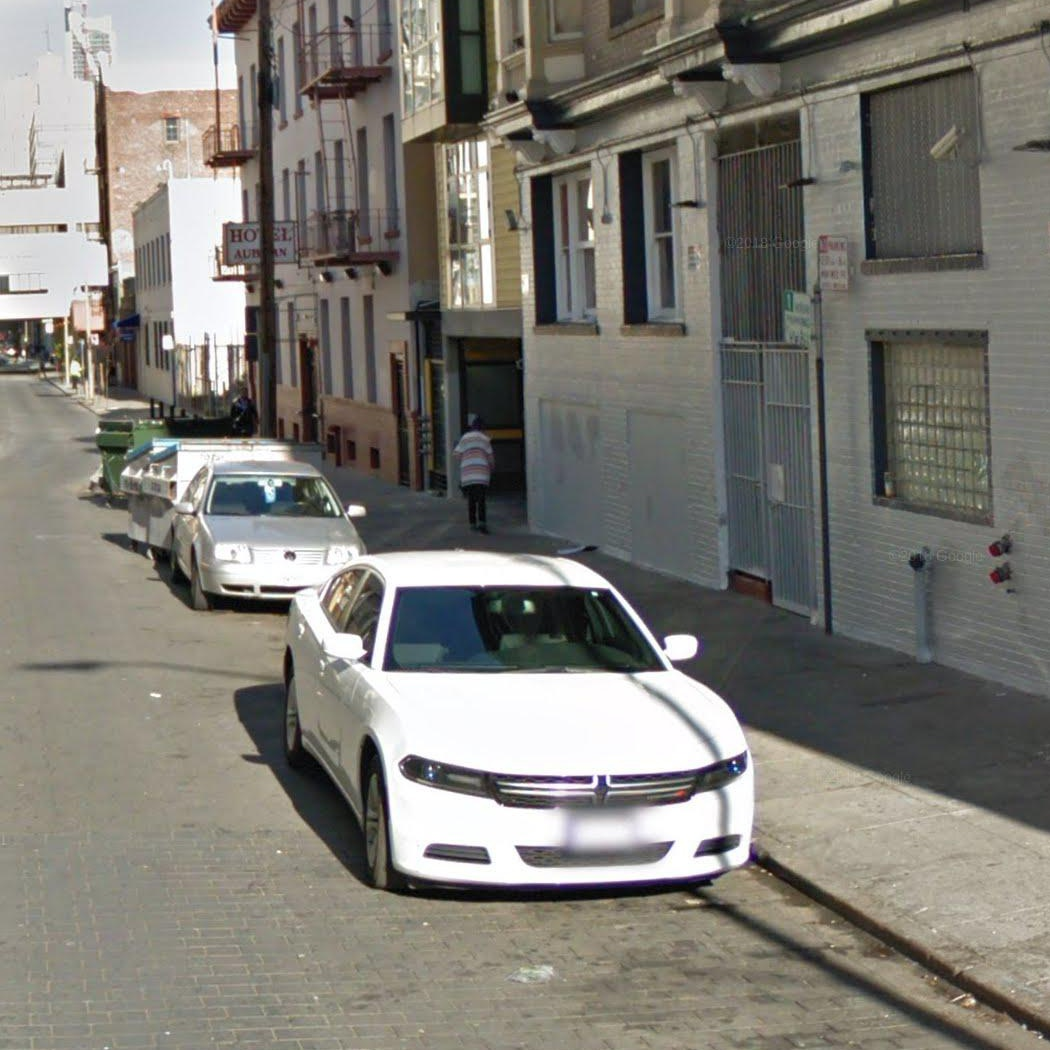1 Hour Parking: (780, 289, 815, 348)
No Parking: (815, 234, 852, 293)
